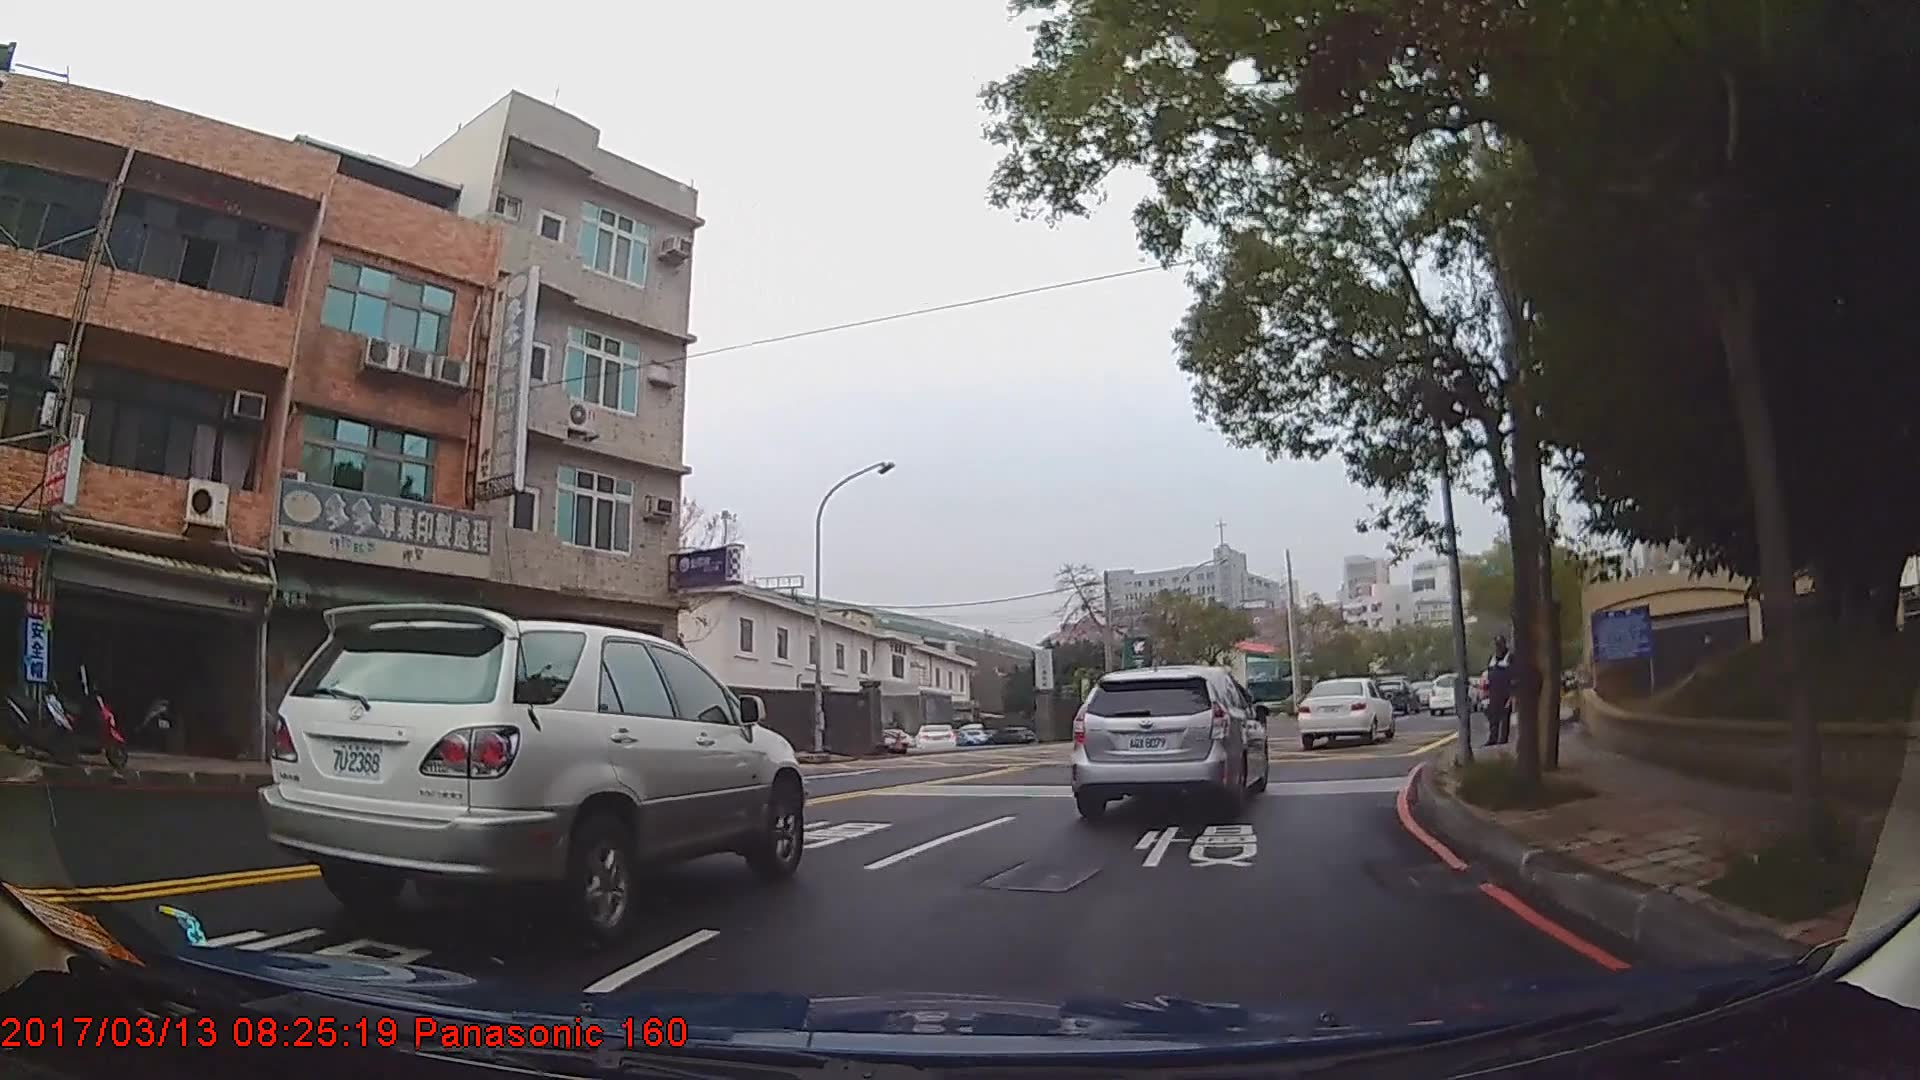pedestrian: (1486, 635, 1522, 745)
vehicle: (264, 602, 803, 951), (1065, 658, 1266, 810), (1295, 678, 1396, 746), (1424, 664, 1474, 711), (915, 720, 960, 749), (978, 725, 1034, 745)
